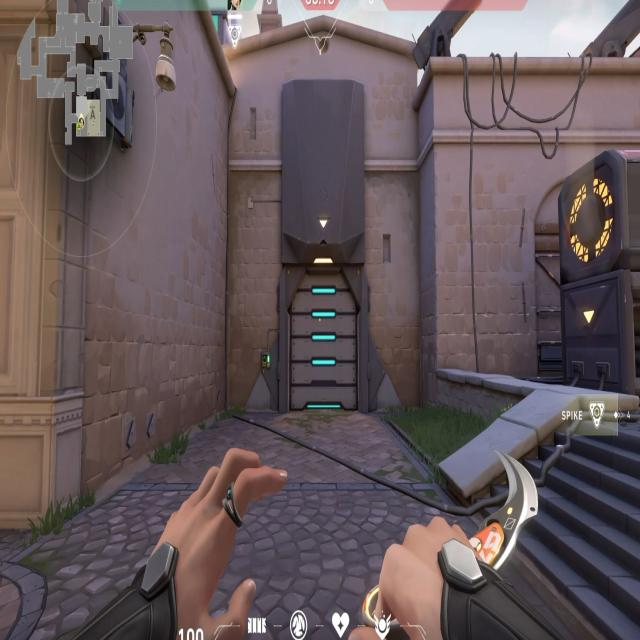A_Door: (274, 228, 374, 428)
